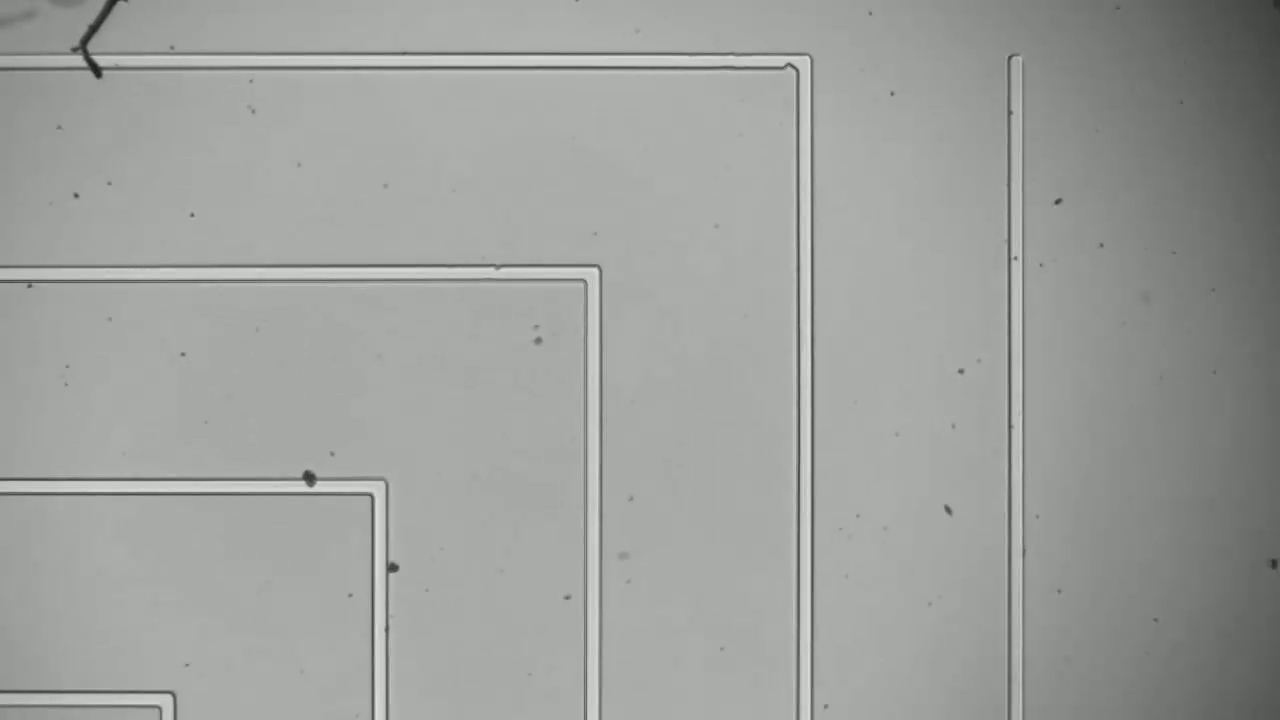edge_bite: (775, 46, 802, 73)
stains_enbedded: (298, 461, 334, 504)
